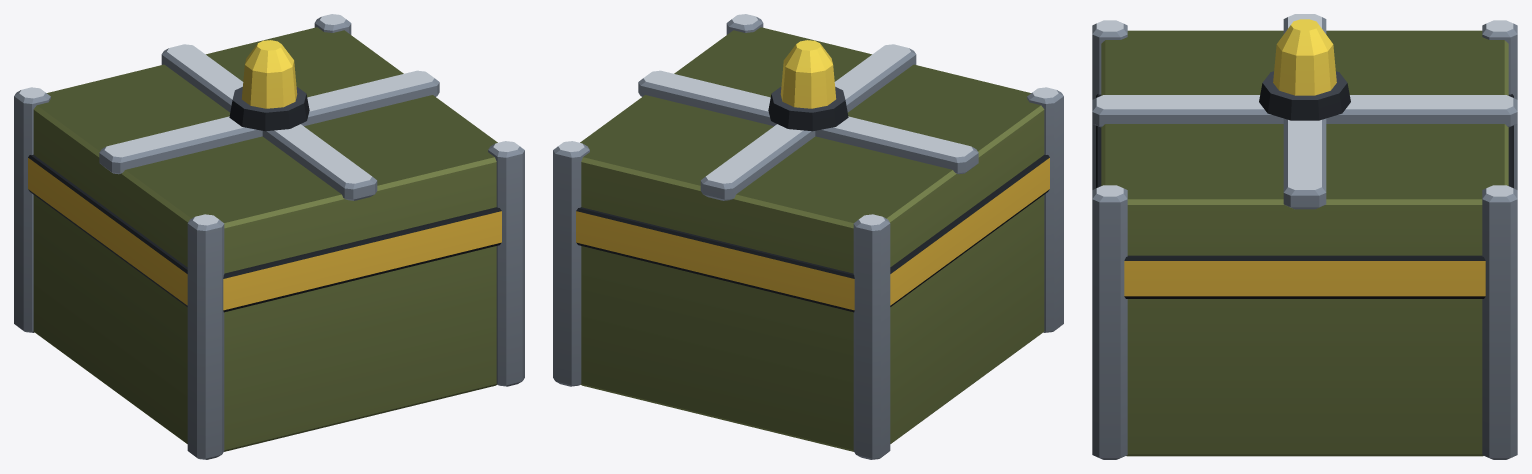
The model's file is SupplyCrate.fbx.
The picture shows the model from 3 angles, left to right: view 1: azimuth 30°, elevation 25°; view 2: azimuth 150°, elevation 25°; view 3: azimuth 270°, elevation 25°; orthographic projection. The views are drawn at different scales.
Parts seen in each view (by area): view 1: Crate, Frame, Stripes, Beacon, BeaconBase; view 2: Crate, Frame, Stripes, Beacon, BeaconBase; view 3: Crate, Frame, Stripes, Beacon, BeaconBase.
Part boxes in pixels (x1=…): Crate: x1=33, y1=27, x2=497, y2=451; Frame: x1=14, y1=14, x2=524, y2=459; Stripes: x1=28, y1=154, x2=501, y2=312; Beacon: x1=241, y1=40, x2=297, y2=108; BeaconBase: x1=229, y1=86, x2=309, y2=131; Crate: x1=580, y1=27, x2=1044, y2=451; Frame: x1=553, y1=14, x2=1063, y2=459; Stripes: x1=576, y1=154, x2=1049, y2=312; Beacon: x1=780, y1=40, x2=836, y2=108; BeaconBase: x1=768, y1=86, x2=848, y2=131; Crate: x1=1101, y1=30, x2=1508, y2=456; Frame: x1=1092, y1=14, x2=1517, y2=459; Stripes: x1=1096, y1=94, x2=1513, y2=298; Beacon: x1=1273, y1=19, x2=1336, y2=95; BeaconBase: x1=1259, y1=71, x2=1350, y2=120.
Size of the model in its own units: 1.2 by 1.08 by 1.2.
Materials: 2 (2 with a texture image).
